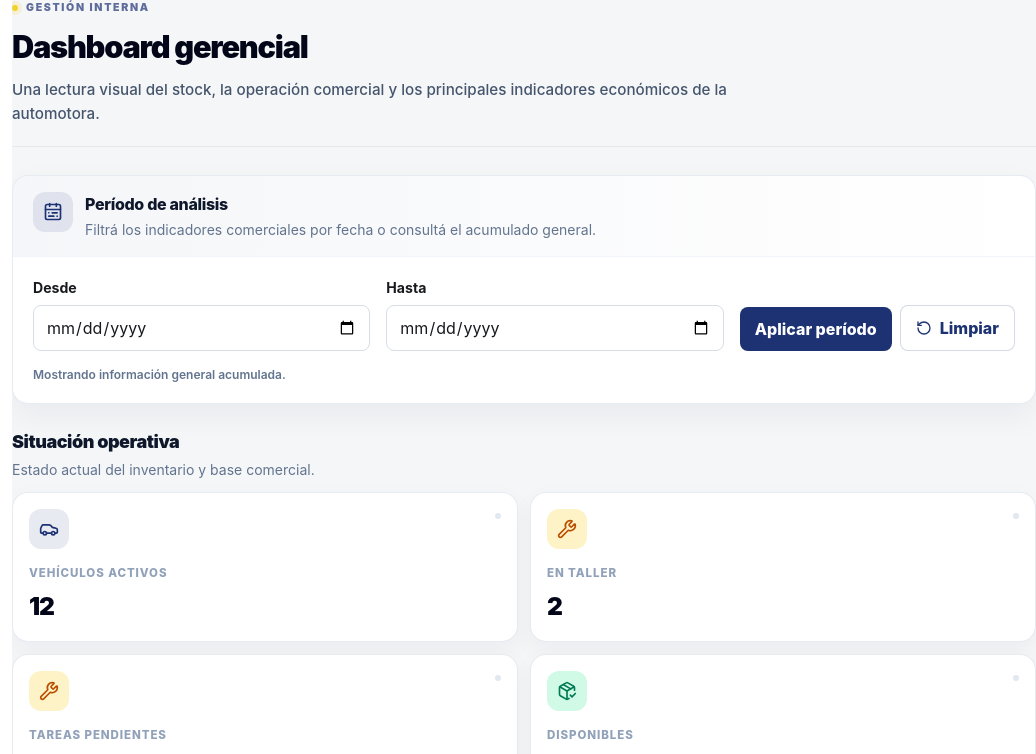
Test case: DashboardPage › envía desde/hasta al backend y refleja el período consultado
The width and height of the screenshot is (1036, 754).
expect the heading "Situación operativa" is shown: met, box [12, 431, 179, 452]
In the date field labelled "Desde": [202, 328] box [33, 305, 370, 351], type "2026-09-01"
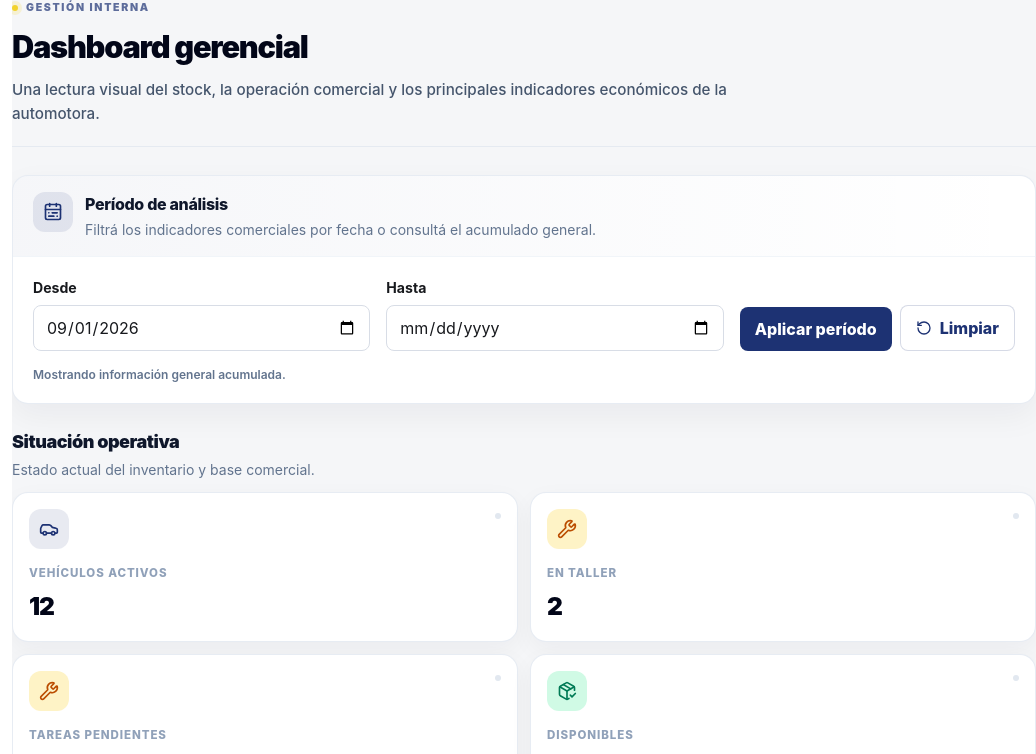
In the date field labelled "Hasta": [555, 328] box [386, 305, 724, 351], type "2026-09-30"
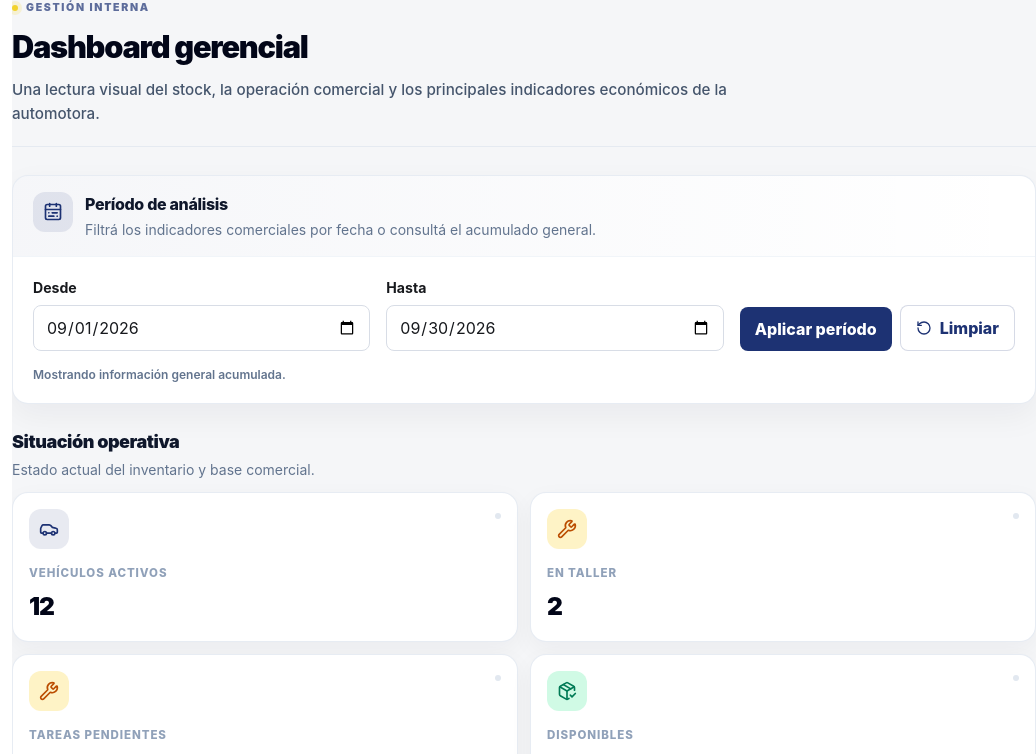
Click the button "Aplicar período": [816, 329] box [740, 307, 892, 351]
(page scrolled)
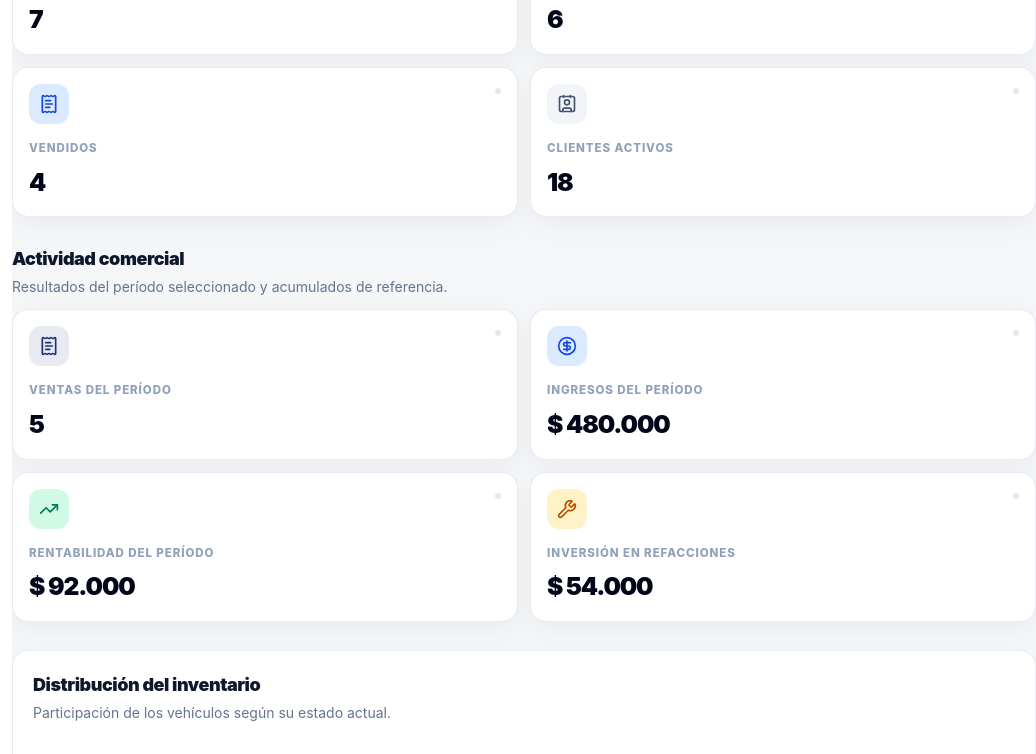
expect the text "Ventas del período" shows "5": met, box [29, 409, 44, 439]
